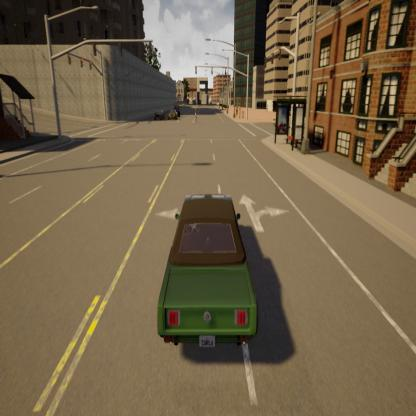Cars: (151, 187, 263, 362), (154, 106, 166, 123), (167, 108, 180, 123), (172, 102, 182, 118)
Pedestrian: (192, 105, 198, 126)
